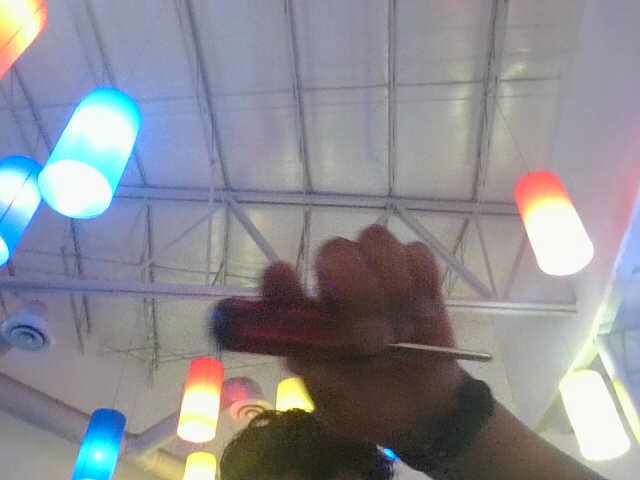destornillador: (207, 268, 498, 378)
